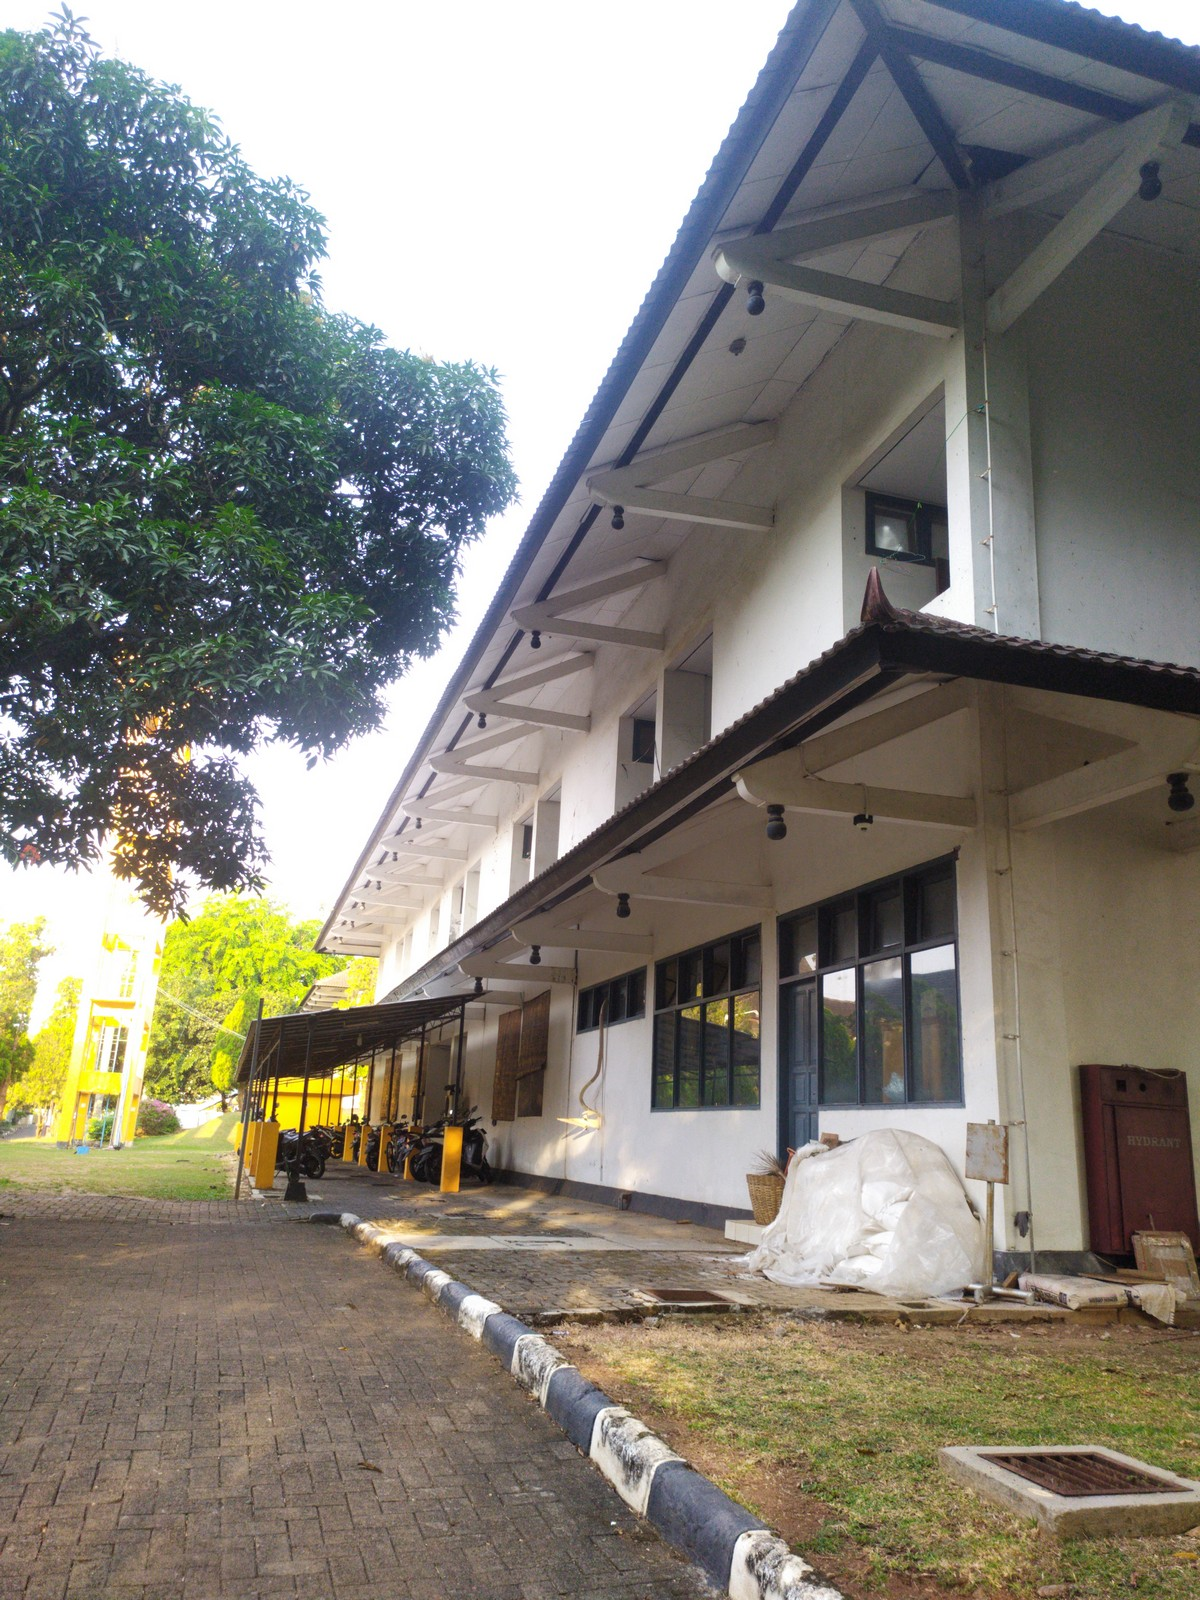concrete beam: (773, 262, 967, 346), (808, 774, 986, 843), (642, 488, 784, 539), (644, 872, 775, 912), (545, 918, 661, 957), (563, 615, 667, 658), (504, 700, 596, 736)
concrete column: (945, 711, 1100, 1283), (939, 222, 1056, 637)
